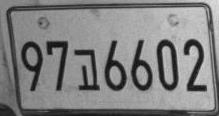0: (156, 38, 180, 91)
2: (182, 38, 207, 91)
6: (103, 40, 127, 92), (130, 39, 153, 92)
7: (46, 39, 68, 91)
9: (20, 39, 43, 92)
고: (73, 48, 101, 91)
